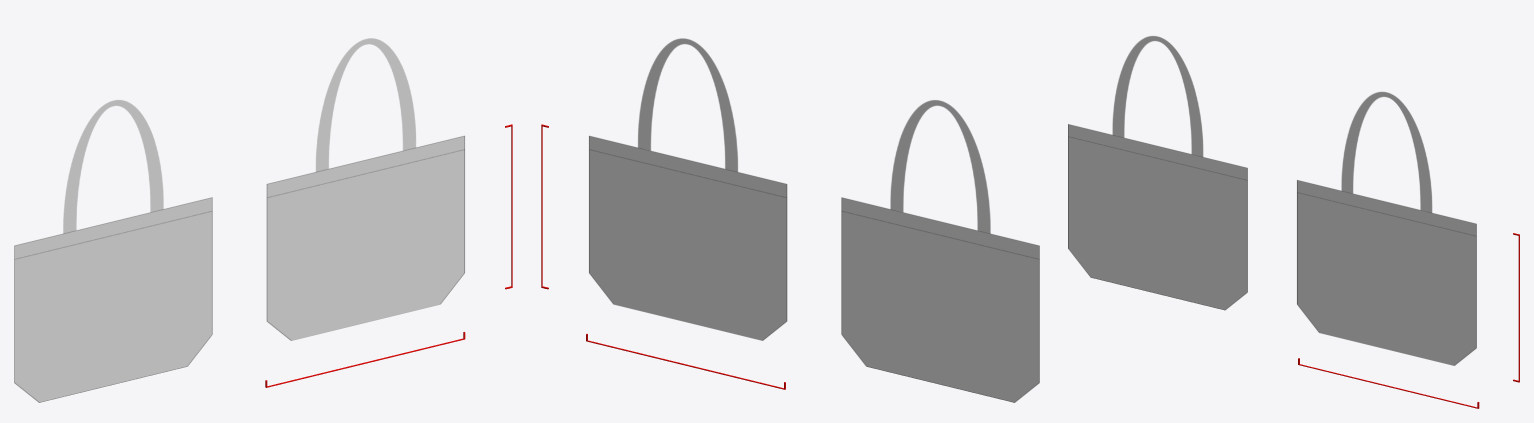
Rendered from 帆布袋-有底无侧.glb.
3 views of the same model, side by side, from view 1: azimuth 30°, elevation 25°; view 2: azimuth 150°, elevation 25°; view 3: azimuth 330°, elevation 25° (orthographic). The views are drawn at different scales.
Visible parts, largest first — view 1: bag, w; view 2: bag, w; view 3: bag.
Part boxes in pixels (x1=…): bag: x1=14, y1=38, x2=464, y2=402; w: x1=265, y1=332, x2=465, y2=387; bag: x1=589, y1=38, x2=1039, y2=402; w: x1=586, y1=334, x2=785, y2=389; bag: x1=1068, y1=36, x2=1476, y2=365.
Size of the model in its own units: 0.7451 by 0.4661 by 0.00545.
Materials: 2 (1 with a texture image).
